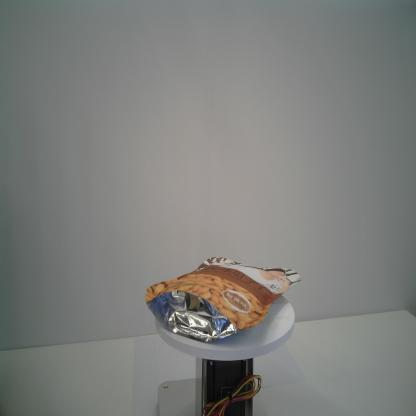Dried Fruit: (145, 256, 302, 344)
